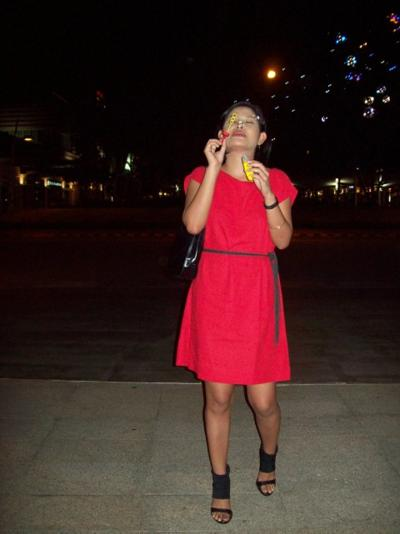person: (176, 97, 298, 523)
